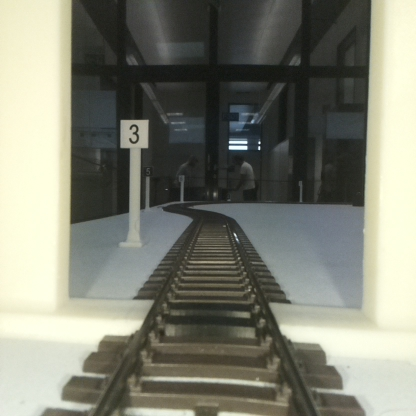white-info-3: (121, 118, 148, 246)
